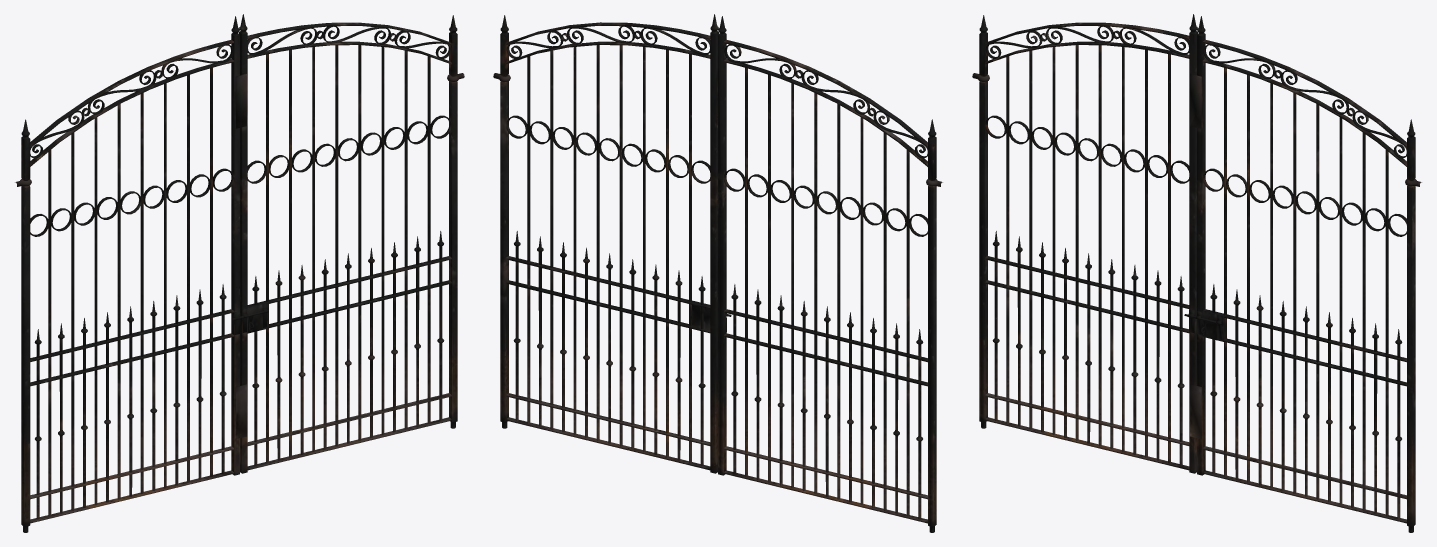
File: large_iron_gate.glb
The picture shows the model from 3 angles, left to right: view 1: azimuth 30°, elevation 25°; view 2: azimuth 150°, elevation 25°; view 3: azimuth 330°, elevation 25°; orthographic projection.
Parts seen in each view (by area): view 1: large_iron_gate_left_door, large_iron_gate_right_door; view 2: large_iron_gate_left_door, large_iron_gate_right_door; view 3: large_iron_gate_right_door, large_iron_gate_left_door.
Part boxes in pixels (<box>): large_iron_gate_left_door: <box>21,16,241,532</box>; large_iron_gate_right_door: <box>235,14,457,473</box>; large_iron_gate_left_door: <box>718,16,936,532</box>; large_iron_gate_right_door: <box>500,14,718,473</box>; large_iron_gate_right_door: <box>1190,16,1415,532</box>; large_iron_gate_left_door: <box>979,14,1197,473</box>.
Bounding box in the file's own units: 2.95 × 2.93 × 0.0974.
Materials: 1 (1 with a texture image).
